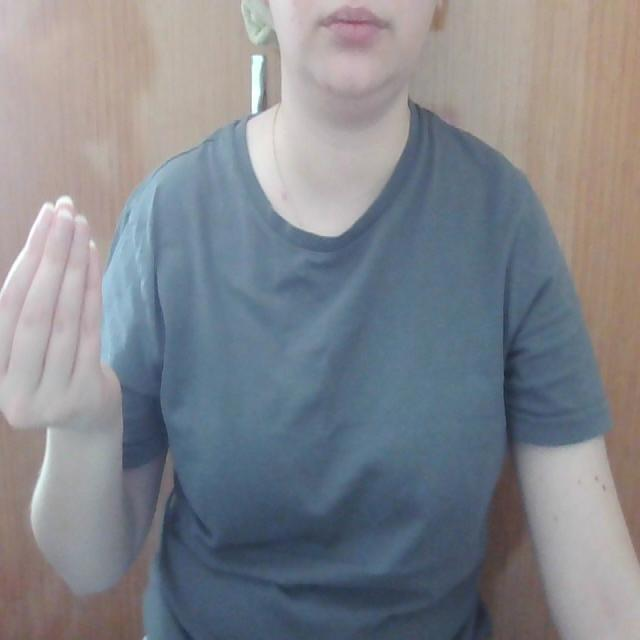iyi: (0, 192, 108, 442)
